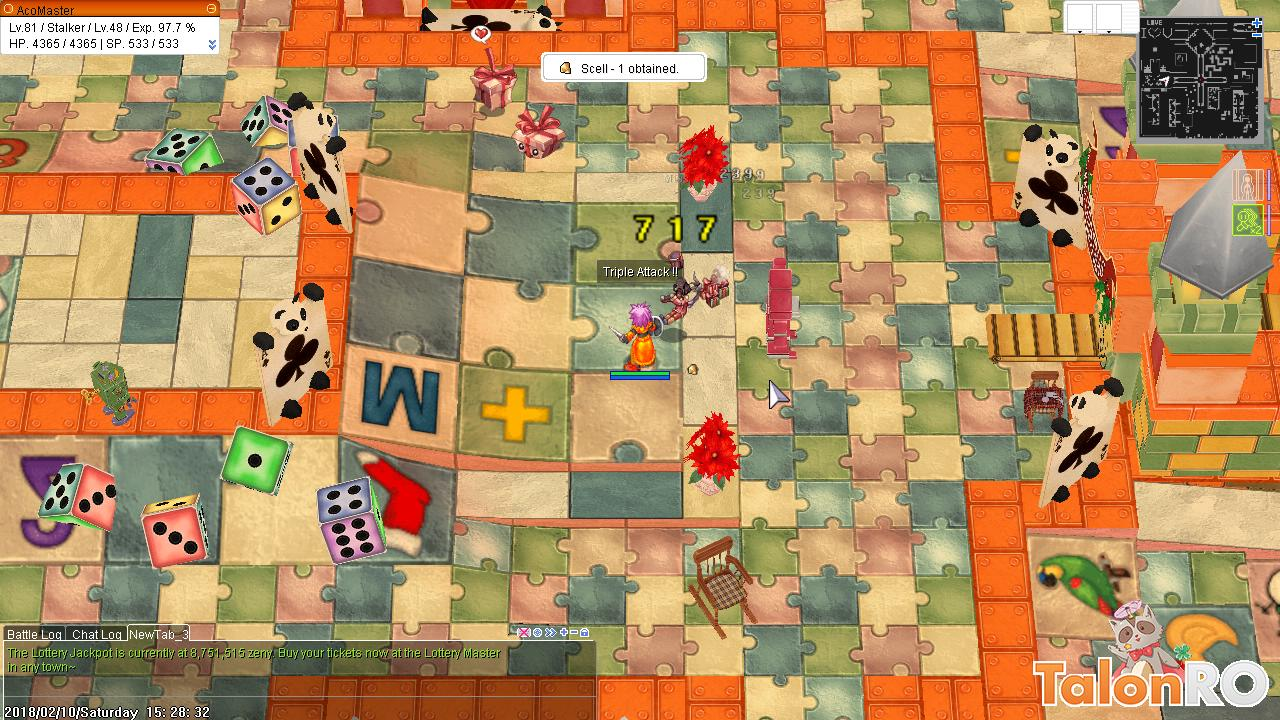loot: (681, 357, 700, 377)
myst_case: (509, 100, 567, 164), (466, 45, 516, 116)
